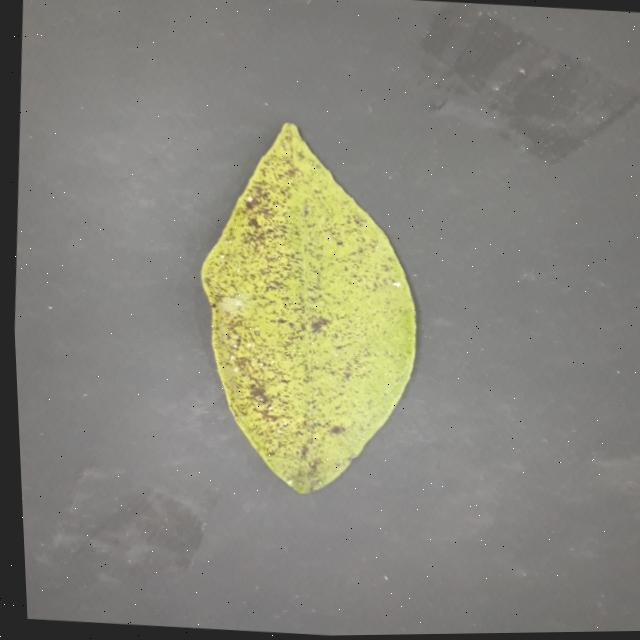greasy_spot: (200, 123, 414, 493)
